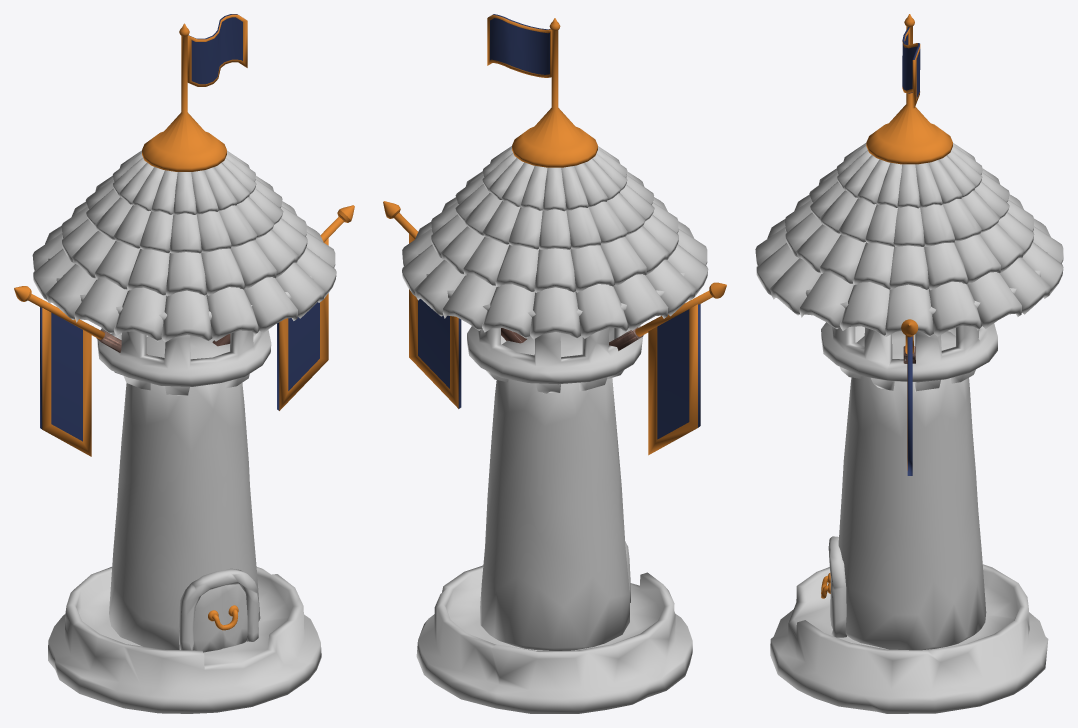
The model's file is Tower Finish.fbx.
The picture shows the model from 3 angles, left to right: view 1: azimuth 30°, elevation 25°; view 2: azimuth 150°, elevation 25°; view 3: azimuth 270°, elevation 25°; orthographic projection.
Parts seen in each view (by area): view 1: Cylinder.4, Plane, Cylinder.006; view 2: Cylinder.4, Plane, Cylinder.006, Cube.1; view 3: Cylinder.4, Plane.
Part boxes in pixels (<box>): Cylinder.4: <box>32,14,336,713</box>; Plane: <box>40,238,328,456</box>; Cylinder.006: <box>28,217,343,339</box>; Cylinder.4: <box>402,14,708,713</box>; Plane: <box>409,234,700,455</box>; Cylinder.006: <box>394,212,712,336</box>; Cube.1: <box>501,327,643,350</box>; Cylinder.4: <box>755,14,1063,713</box>; Plane: <box>907,336,912,475</box>.
Bounding box in the file's own units: 5267 × 9354 × 4069.
